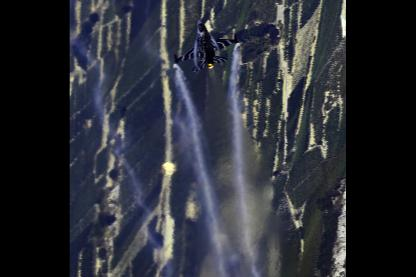F14: (173, 18, 238, 71)
